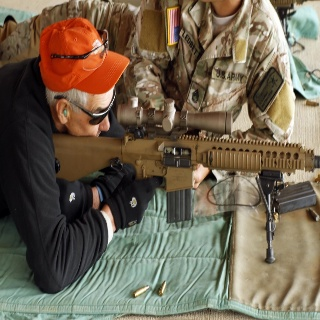rifle: (51, 96, 320, 260)
